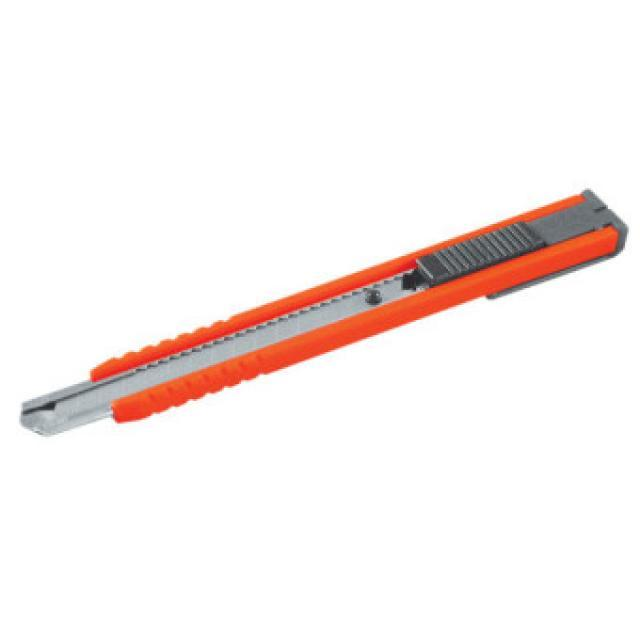cutter: (22, 182, 631, 459)
